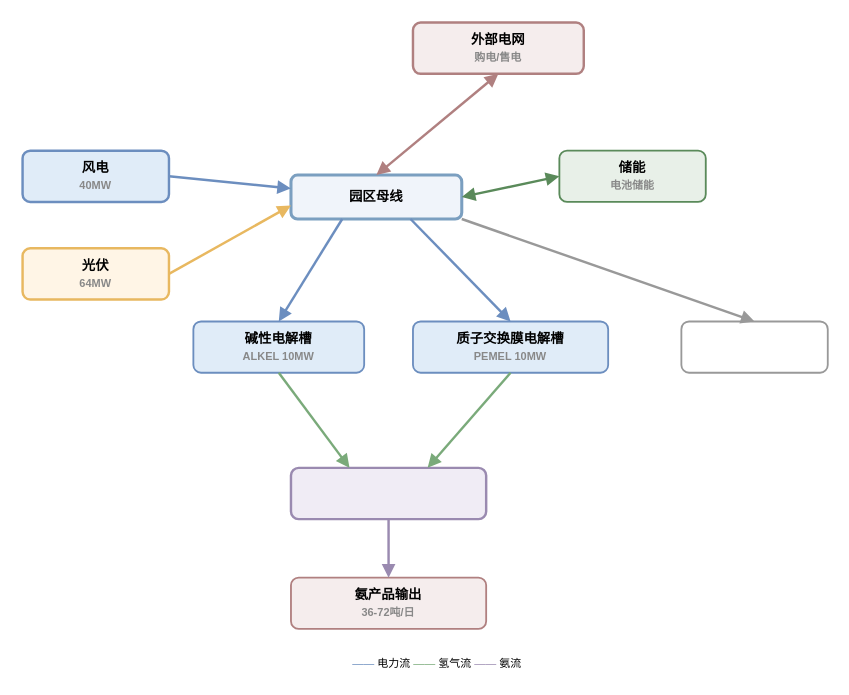
Image size: 849x695. Some labels were removed from this diagram. The shapes that lost their labels are listed below. From the top down, each one's box as (x1, y1, x2, y2) in pixels, then its label:
(680, 320, 828, 373): 常规电负荷 峰值 6MW
(289, 466, 487, 520): 合成氨装置 0.75MW, 1.5吨/h
